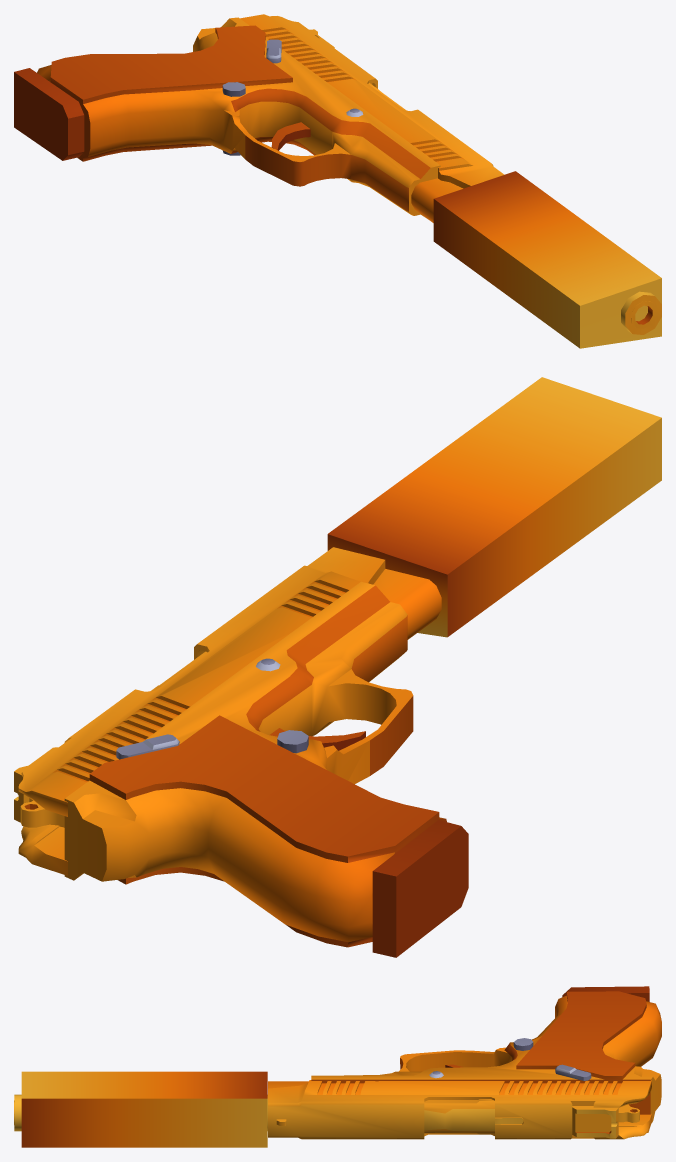
The model's file is Handgun_LVL2.fbx.
The picture shows the model from 3 angles, top to bottom: view 1: azimuth 30°, elevation 25°; view 2: azimuth 150°, elevation 25°; view 3: azimuth 270°, elevation 25°; orthographic projection. The views are drawn at different scales.
Parts seen in each view (by area): view 1: Object014; view 2: Object014; view 3: Object014.
Part boxes in pixels (x1,y1,x2,y2): Object014: [14, 14, 661, 348]; Object014: [14, 377, 661, 957]; Object014: [14, 986, 661, 1147].
Size of the model in its own units: 41.72 by 9.78 by 99.3.
